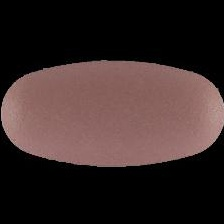0603-6330: (0, 0, 224, 224)
